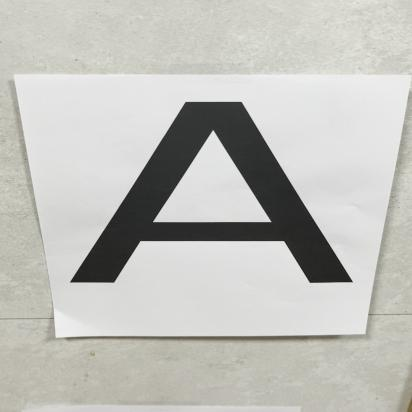seat: (44, 82, 382, 293)
